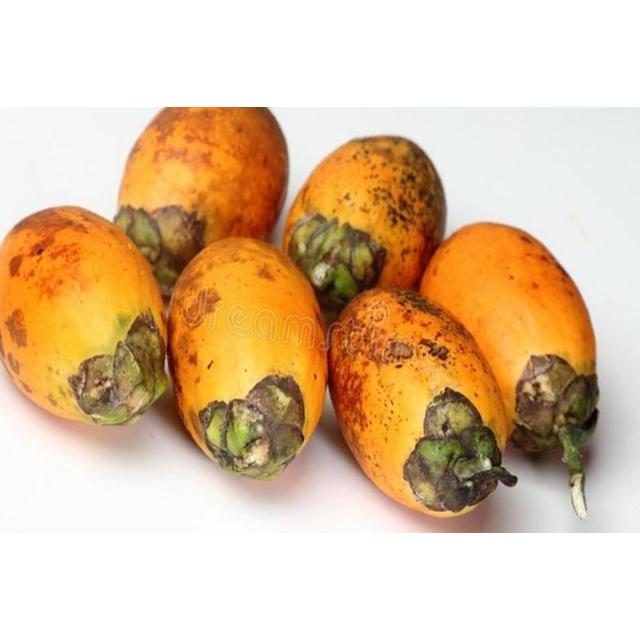good: (0, 108, 598, 524)
